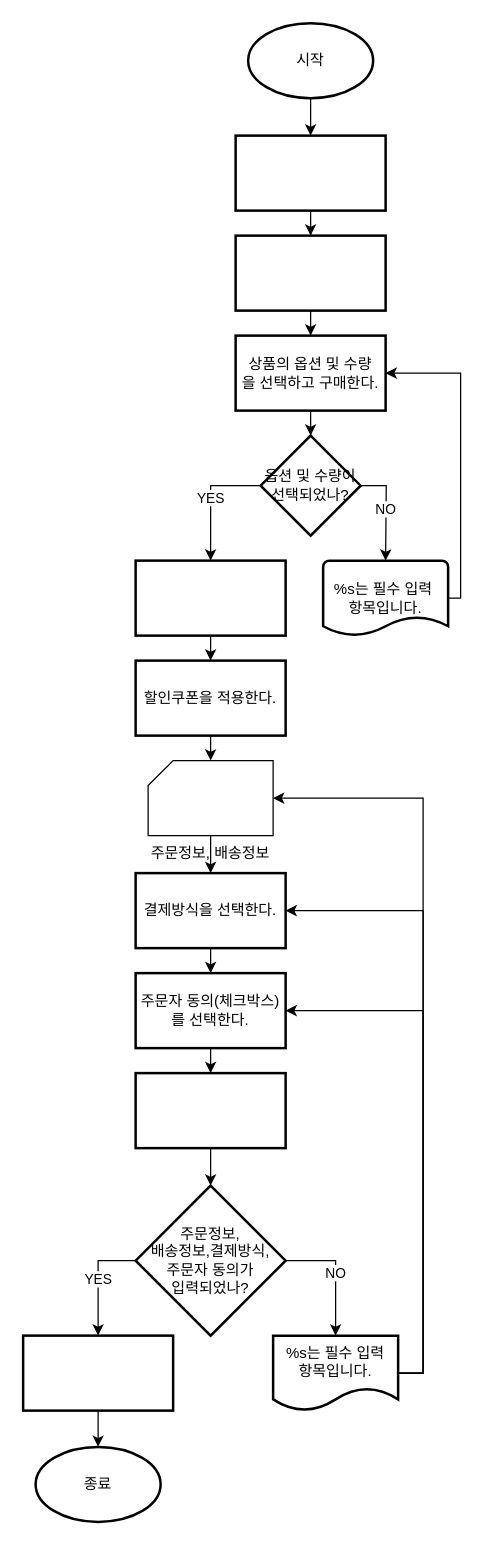
Some shapes in this 493 by 1544 pixel diagram are drawn without their labels. The centre of each missing label's shape, as x and y in pixels:
"결제버튼을 클릭한다." belongs at (210,1110).
"결제페이지 이동" belongs at (97,1372).
"상품의 상세 정보 페이지를 출력한다." belongs at (310,272).
"제품을 상품목록에서 선택한다." belongs at (310,172).
"주문 상세페이지로 이동한다." belongs at (210,597).
